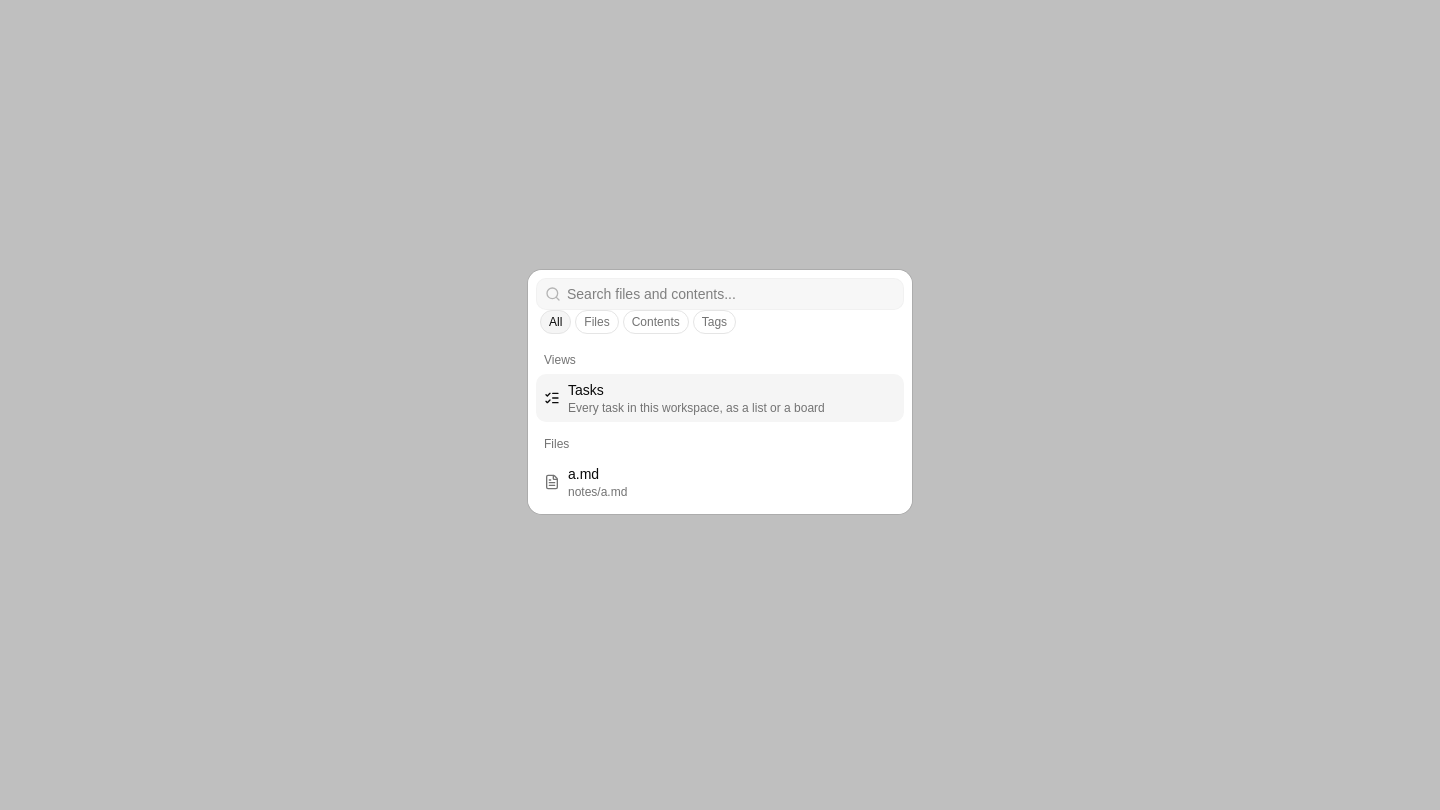
Test: views reachable from quick open › drops the view once the query cannot match it
Type "notes" into the dropdown with placeholder "Search files and contents..." at {"x": 732, "y": 294}, box [561,284,903,304]
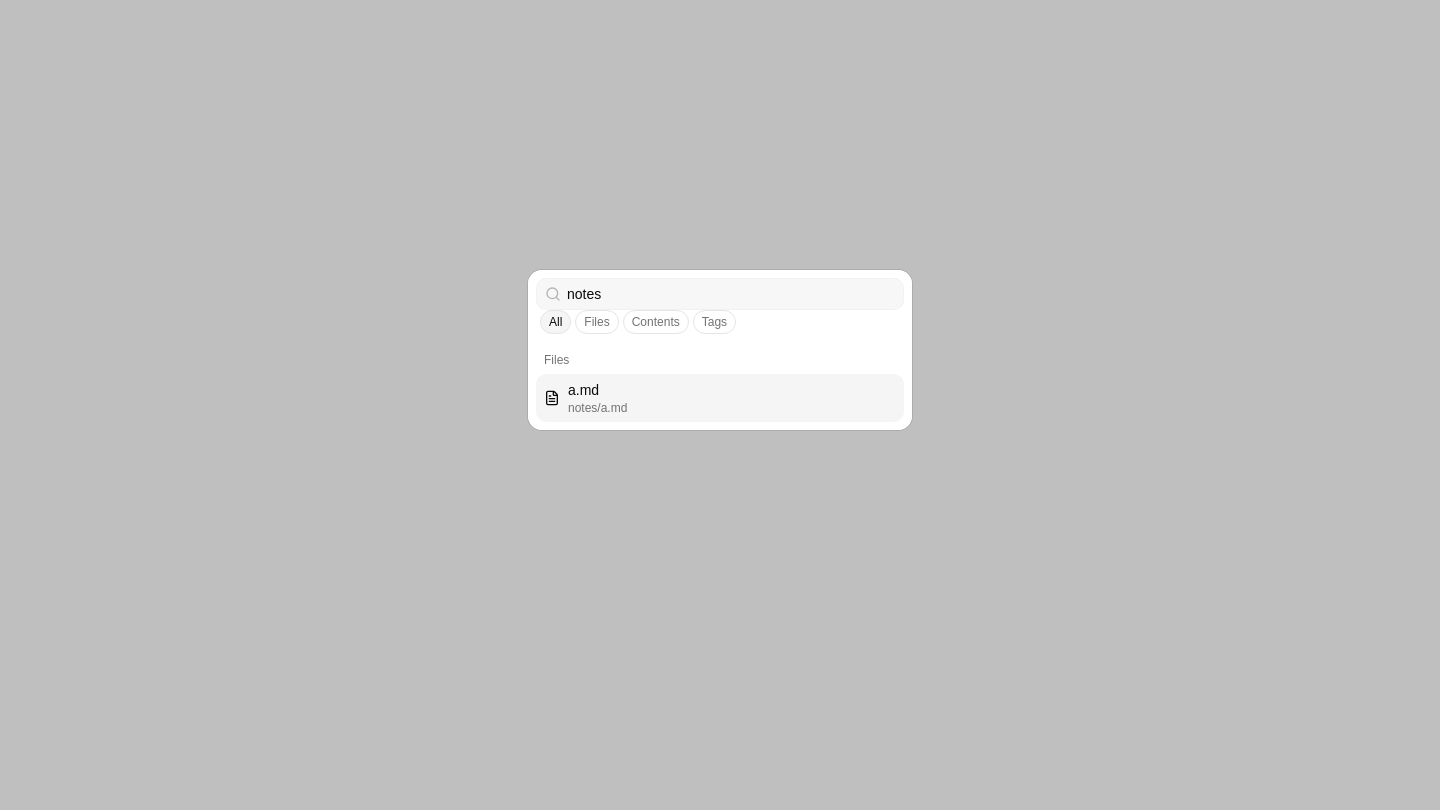
Result: the option "Tasks" is gone
